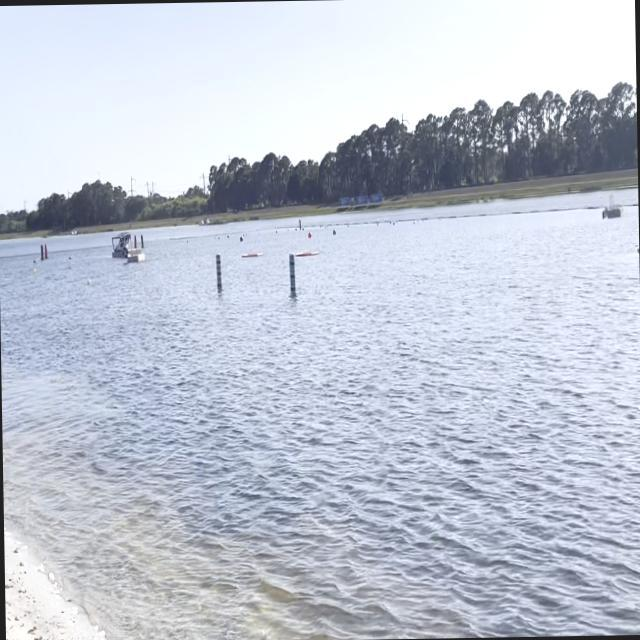buoy: (86, 278, 90, 286), (32, 266, 36, 274), (307, 231, 311, 238), (332, 228, 336, 235), (239, 236, 243, 242), (32, 258, 36, 264), (68, 256, 72, 260)
